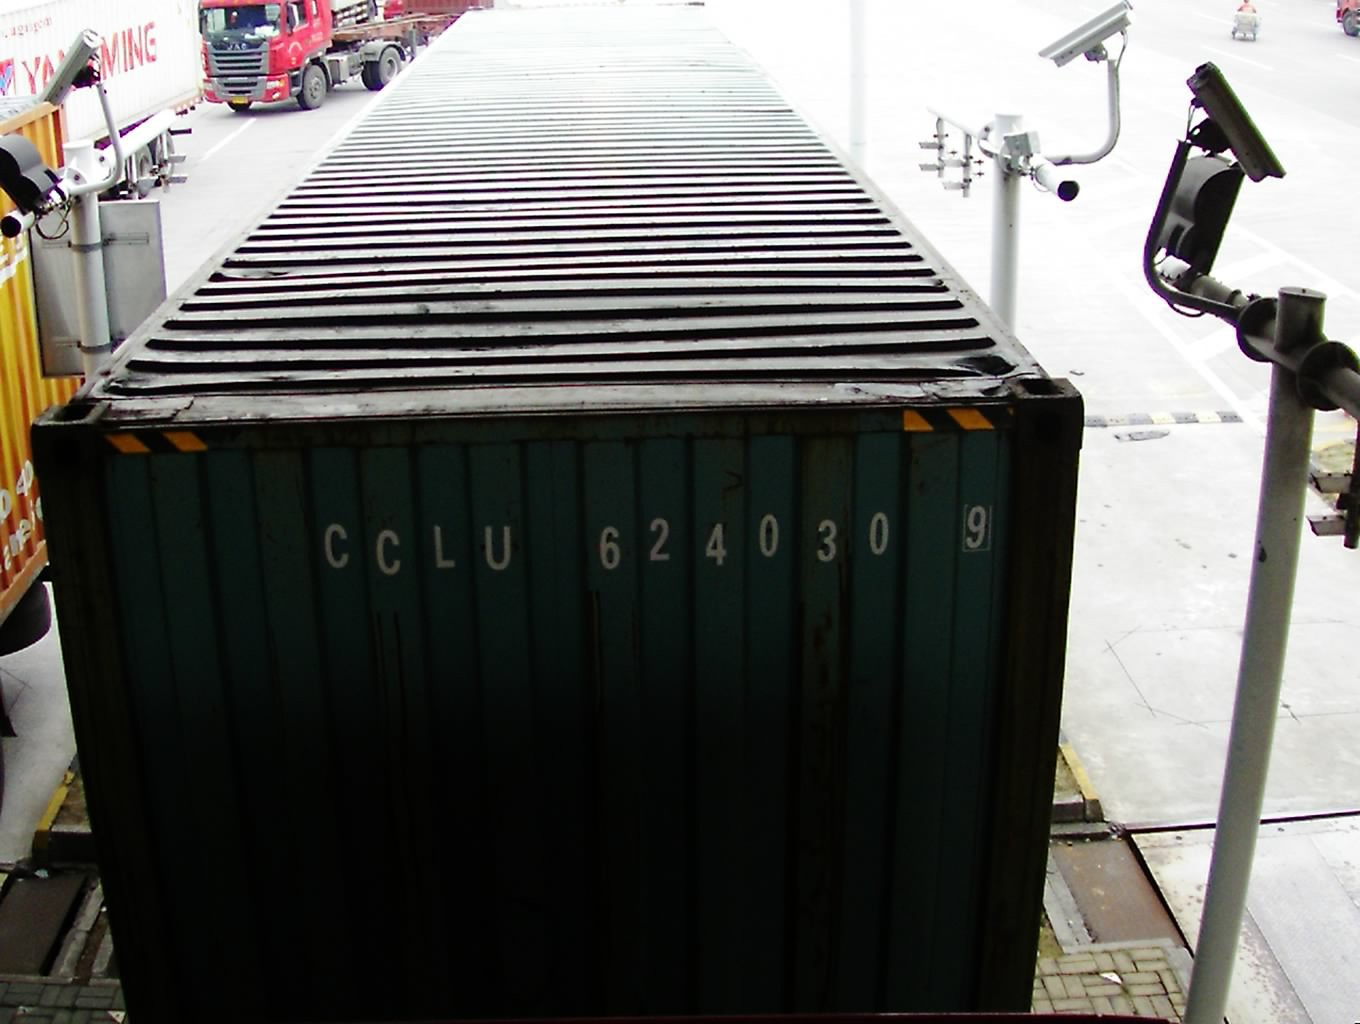words: (313, 501, 998, 578)
